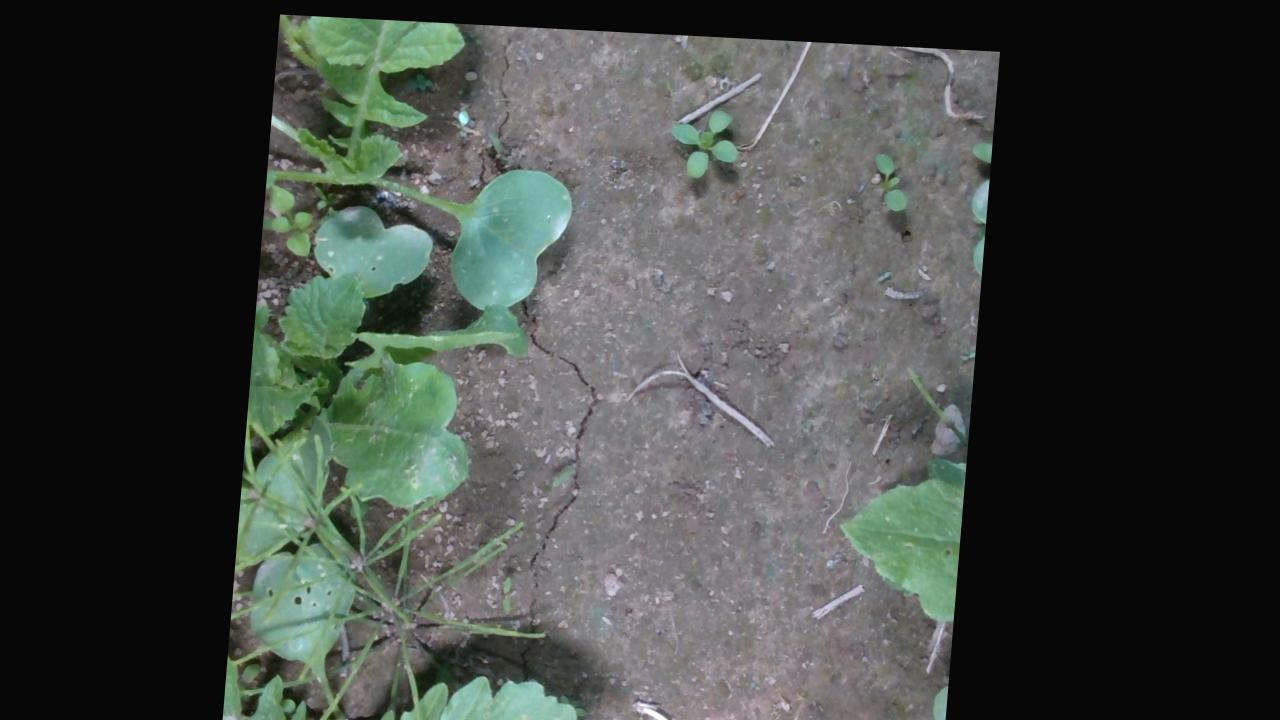weed: (870, 136, 915, 209)
